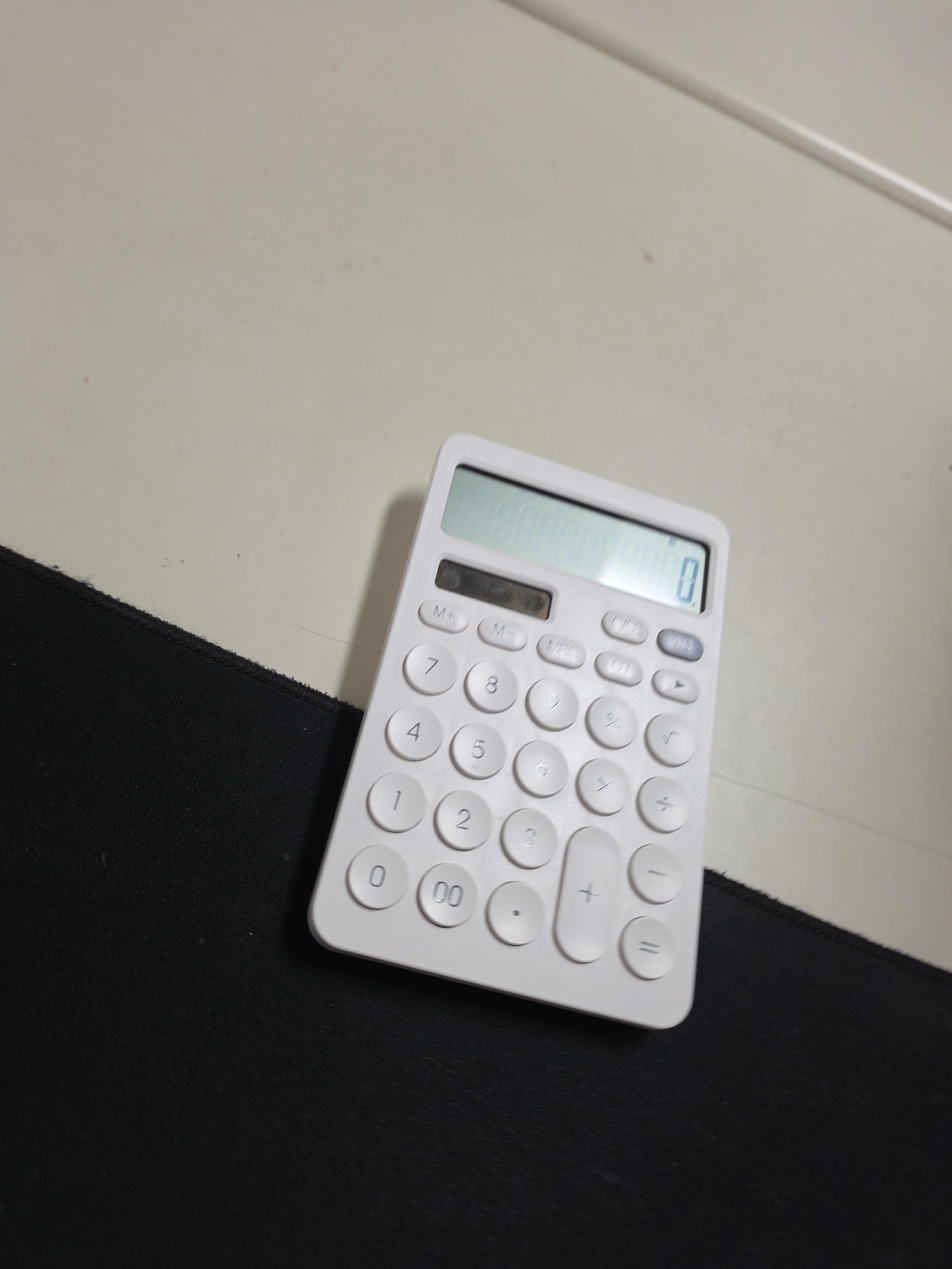calculator: (307, 432, 731, 1030)
